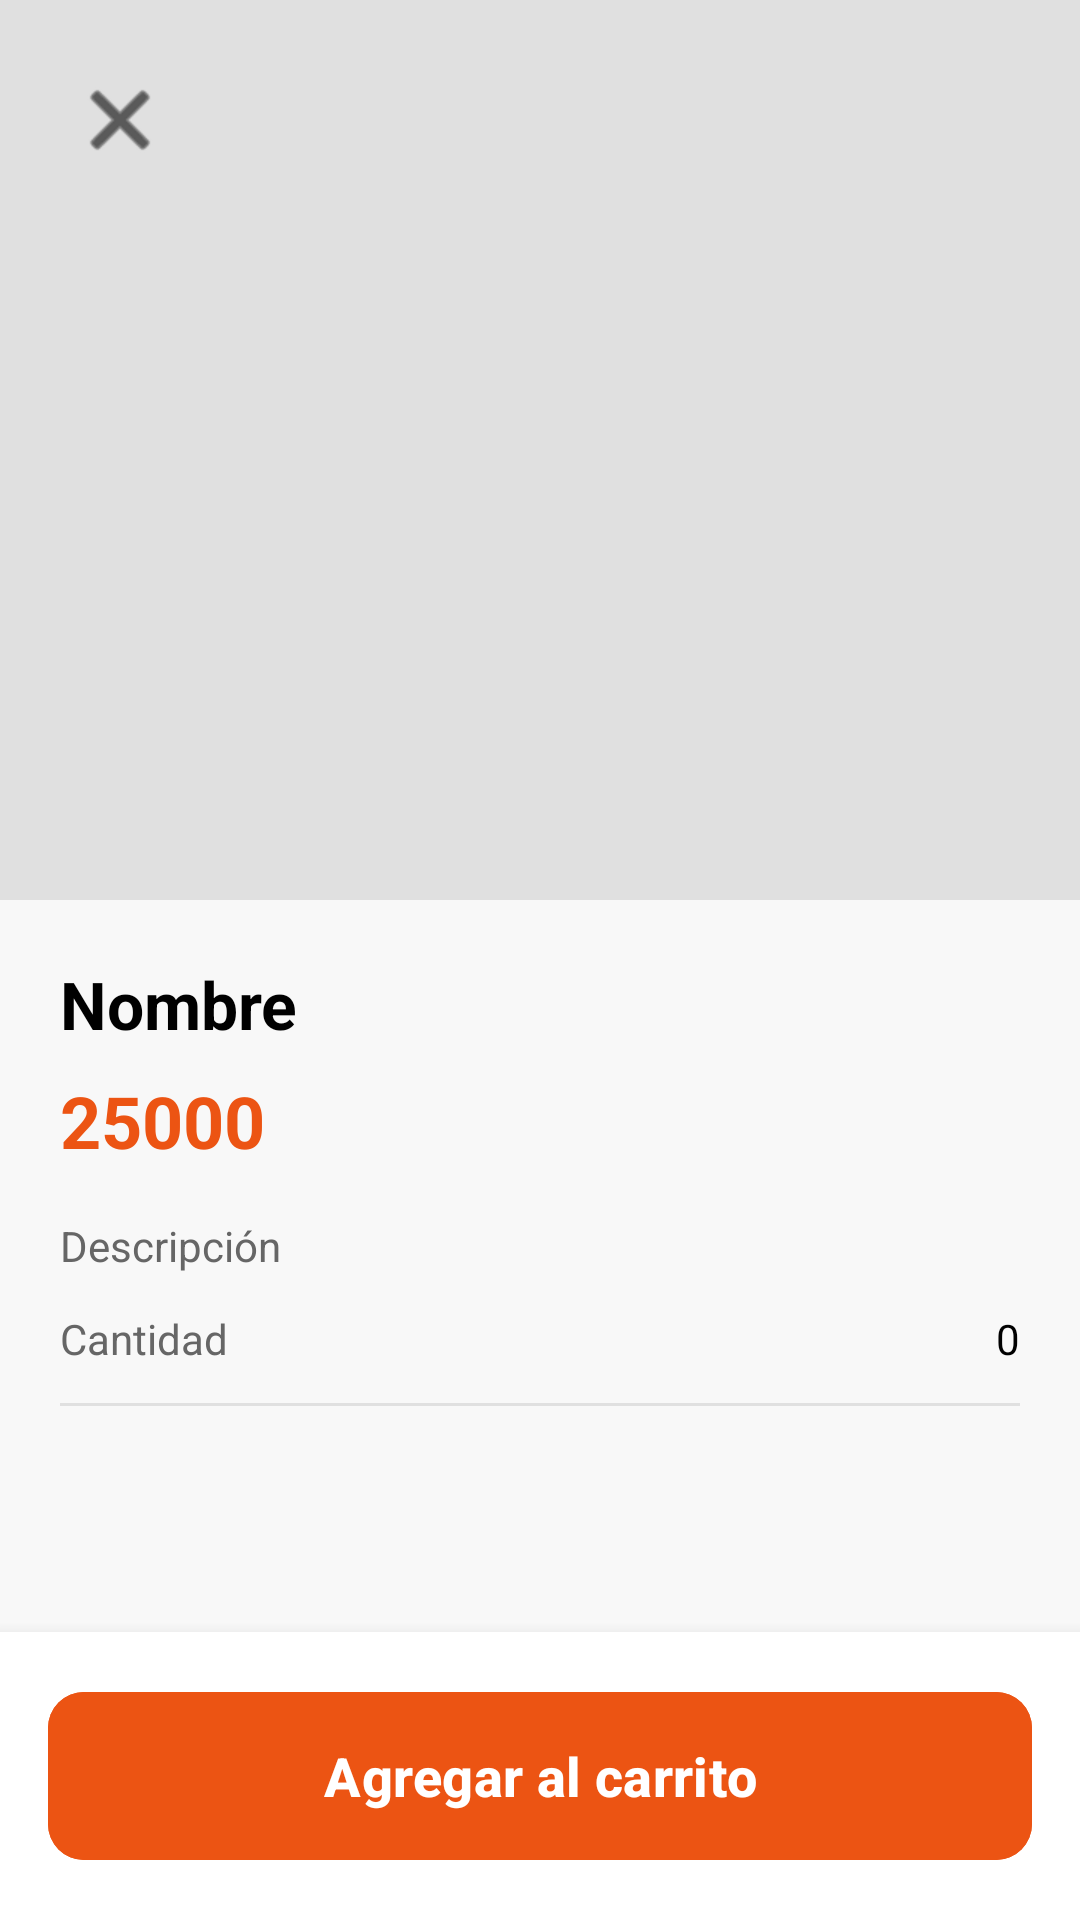

Where to tap for icons on this 1080 x 1920 app screen, as (x=x, y=y):
Volver: (x=120, y=120)
